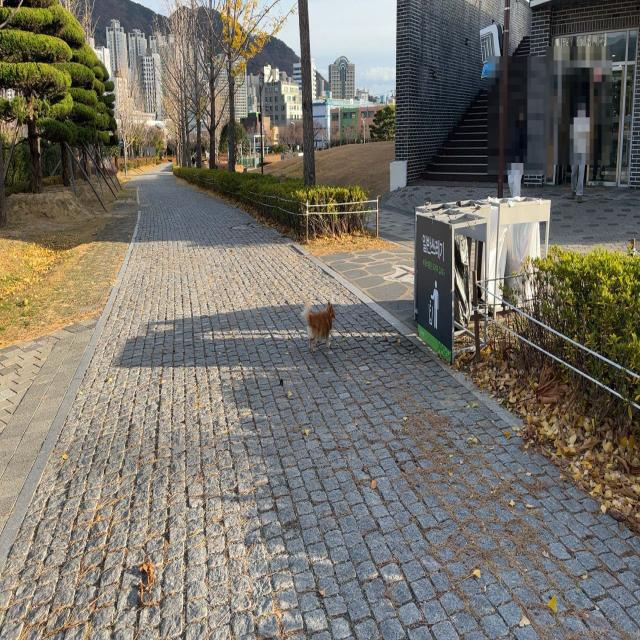Dog: (300, 298, 335, 352)
